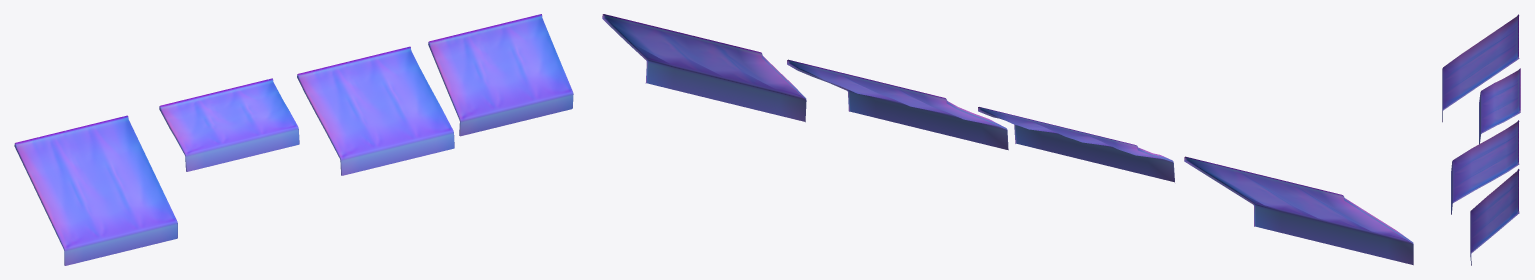
The model's file is ShopTent.FBX.
3 renders of one model, left to right at view 1: azimuth 30°, elevation 25°; view 2: azimuth 150°, elevation 25°; view 3: azimuth 270°, elevation 25°, orthographic. The views are drawn at different scales.
Parts seen in each view (by area): view 1: ShopTent, ShopTent002, ShopTent003, ShopTent001; view 2: ShopTent003, ShopTent, ShopTent002, ShopTent001; view 3: ShopTent, ShopTent002, ShopTent003, ShopTent001.
Part boxes in pixels (bbox=[...]): ShopTent: bbox=[14, 115, 177, 265]; ShopTent002: bbox=[297, 46, 454, 175]; ShopTent003: bbox=[428, 14, 573, 136]; ShopTent001: bbox=[159, 78, 299, 171]; ShopTent003: bbox=[602, 14, 806, 122]; ShopTent: bbox=[1184, 156, 1413, 265]; ShopTent002: bbox=[787, 59, 1008, 150]; ShopTent001: bbox=[978, 107, 1174, 182]; ShopTent: bbox=[1442, 14, 1519, 122]; ShopTent002: bbox=[1451, 120, 1519, 214]; ShopTent003: bbox=[1470, 169, 1519, 265]; ShopTent001: bbox=[1479, 68, 1520, 144].
Size of the model in its own units: 535 by 84.56 by 90.
Materials: 1 (1 with a texture image).
